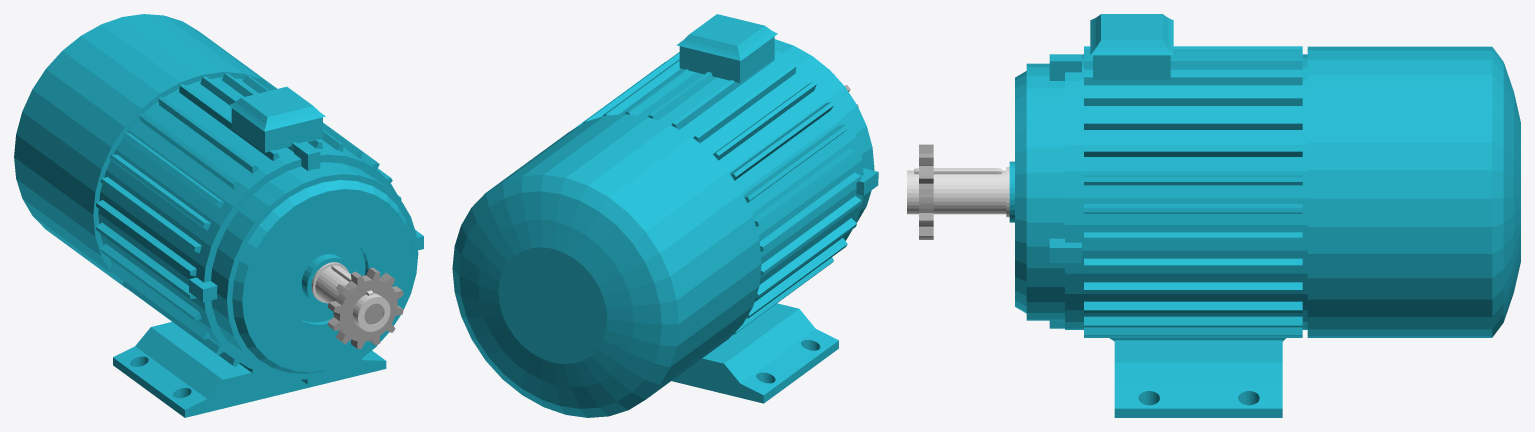
The model's file is item_electric_engine.fbx.
3 views of the same model, side by side, from view 1: azimuth 30°, elevation 25°; view 2: azimuth 150°, elevation 25°; view 3: azimuth 270°, elevation 25° (orthographic). The views are drawn at different scales.
Parts seen in each view (by area): view 1: Motor; view 2: Motor; view 3: Motor.
Boxes of the visible parts, x1=… form: Motor: x1=14, y1=14, x2=423, y2=417; Motor: x1=452, y1=14, x2=878, y2=417; Motor: x1=907, y1=14, x2=1520, y2=417.
Bounding box in the file's own units: 204 × 252 × 421.
